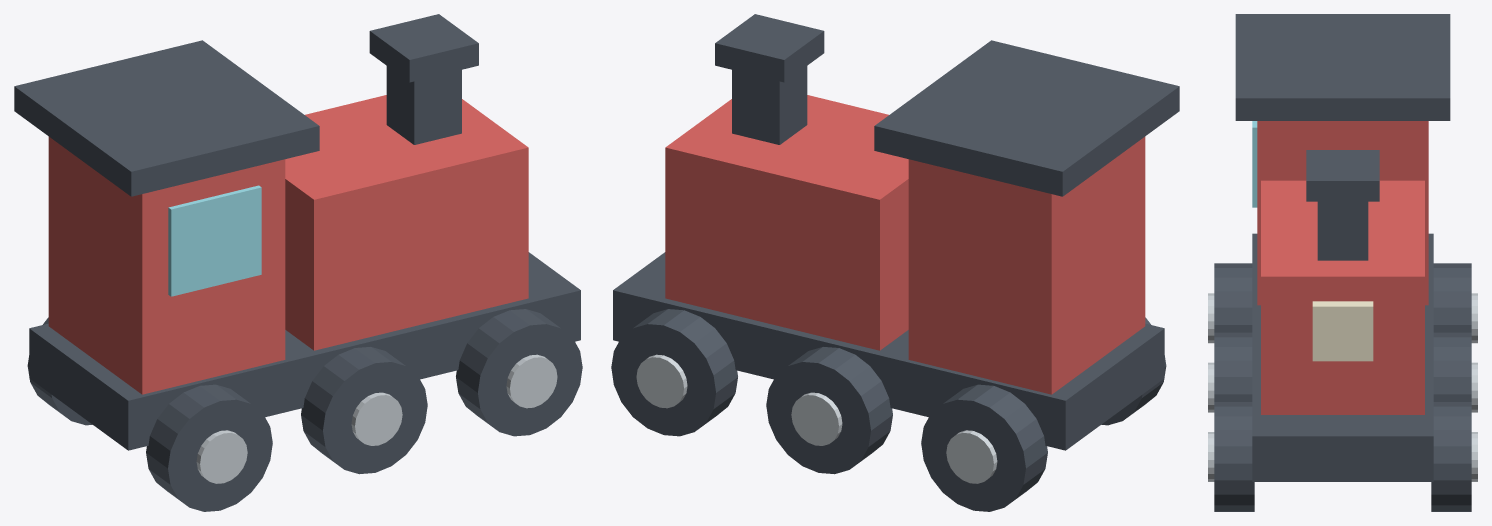
File: train.gltf
3 renders of one model, left to right at view 1: azimuth 30°, elevation 25°; view 2: azimuth 150°, elevation 25°; view 3: azimuth 270°, elevation 25°, orthographic. The views are drawn at different scales.
Visible parts, largest first — view 1: boiler, cab, rubber tyre (×4), roof, base, window, wheel hub (×3), chimney cap, chimney; view 2: boiler, cab, rubber tyre (×4), roof, base, wheel hub (×3), chimney cap, chimney; view 3: boiler, roof, rubber tyre (×6), base, cab, chimney cap, front lamp, chimney, wheel hub (×6), window.
Part boxes in pixels (x1=…): boiler: x1=285, y1=95, x2=528, y2=350; cab: x1=48, y1=136, x2=285, y2=394; rubber tyre (×4): x1=27, y1=309, x2=582, y2=511; roof: x1=14, y1=40, x2=319, y2=196; base: x1=29, y1=252, x2=580, y2=450; window: x1=168, y1=185, x2=261, y2=296; wheel hub (×3): x1=196, y1=354, x2=557, y2=483; chimney cap: x1=369, y1=14, x2=478, y2=82; chimney: x1=386, y1=66, x2=461, y2=144; boiler: x1=665, y1=95, x2=908, y2=350; cab: x1=908, y1=136, x2=1145, y2=394; rubber tyre (×4): x1=611, y1=309, x2=1166, y2=511; roof: x1=874, y1=40, x2=1179, y2=196; base: x1=613, y1=252, x2=1164, y2=450; wheel hub (×3): x1=636, y1=354, x2=997, y2=483; chimney cap: x1=715, y1=14, x2=824, y2=82; chimney: x1=732, y1=66, x2=807, y2=144; boiler: x1=1261, y1=180, x2=1424, y2=414; roof: x1=1235, y1=14, x2=1450, y2=120; rubber tyre (×6): x1=1214, y1=263, x2=1471, y2=511; base: x1=1252, y1=233, x2=1433, y2=481; cab: x1=1257, y1=121, x2=1428, y2=305; chimney cap: x1=1306, y1=150, x2=1379, y2=201; front lamp: x1=1312, y1=301, x2=1373, y2=361; chimney: x1=1317, y1=201, x2=1368, y2=260; wheel hub (×6): x1=1208, y1=293, x2=1477, y2=481; window: x1=1252, y1=121, x2=1257, y2=207.
Bounding box in the file's own units: 1.92 × 1.42 × 1.07.
